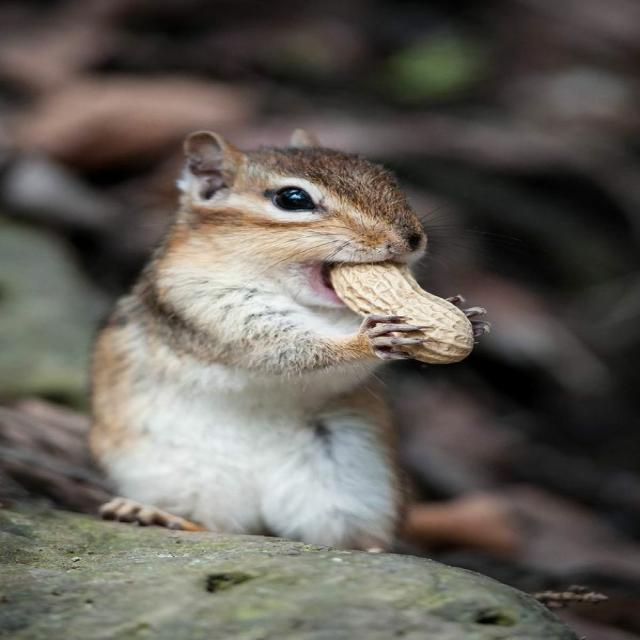Herbivorous: (90, 131, 475, 553)
